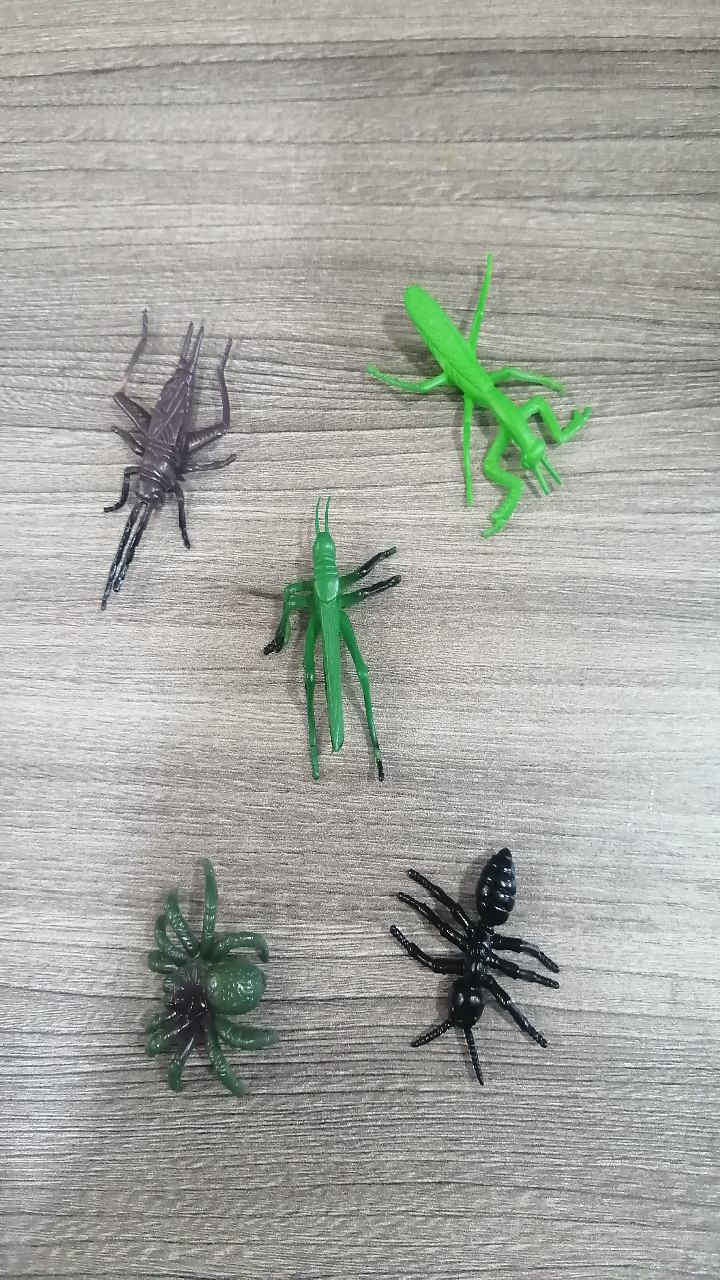intruso: (343, 215, 621, 540), (29, 277, 251, 620), (84, 845, 311, 1120), (237, 500, 428, 826), (371, 806, 583, 1092)
